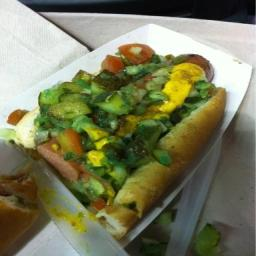hotdog: (0, 197, 68, 250), (36, 131, 92, 186), (156, 50, 228, 87)
